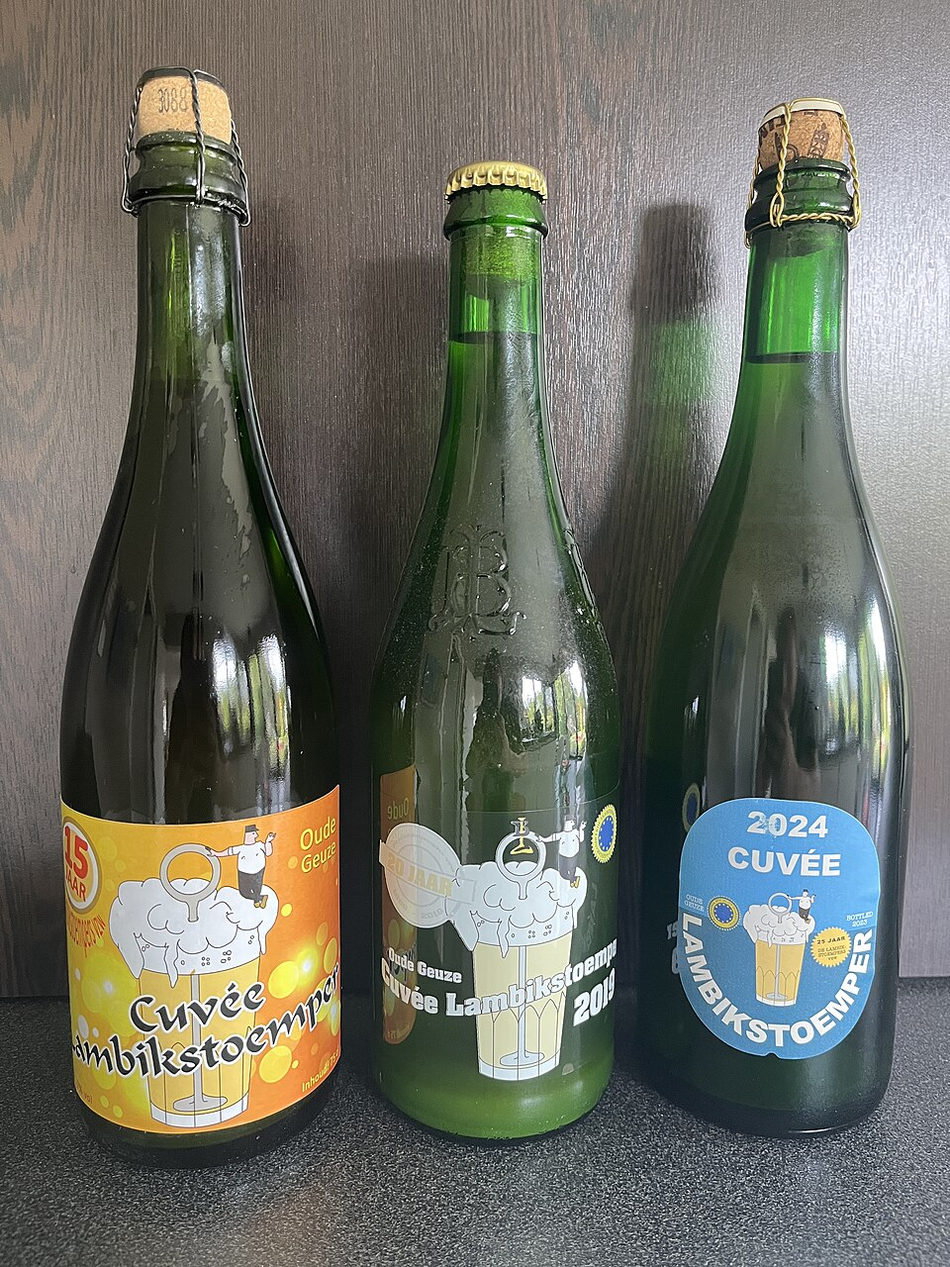beer-bottle: (50, 86, 346, 1169), (623, 126, 915, 1144), (358, 153, 632, 1155)
